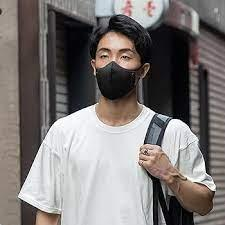mask: (92, 57, 148, 106)
